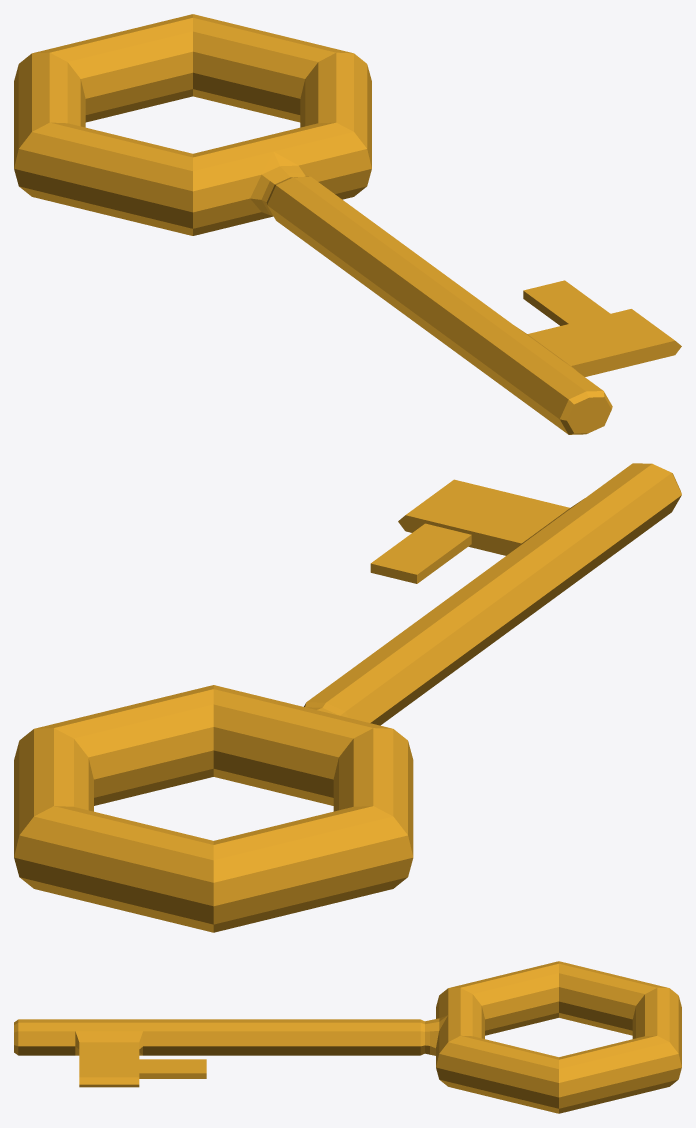
Rendered from Key.fbx.
3 views of the same model, one above another, from view 1: azimuth 30°, elevation 25°; view 2: azimuth 150°, elevation 25°; view 3: azimuth 270°, elevation 25° (orthographic). The views are drawn at different scales.
Visible parts, largest first — view 1: Torus.001; view 2: Torus.001; view 3: Torus.001.
Boxes of the visible parts, left/top/right/bottom form: Torus.001: left=14, top=14, right=681, bottom=434; Torus.001: left=14, top=463, right=681, bottom=932; Torus.001: left=14, top=961, right=681, bottom=1113.
Bounding box in the file's own units: 250 × 50 × 588.
